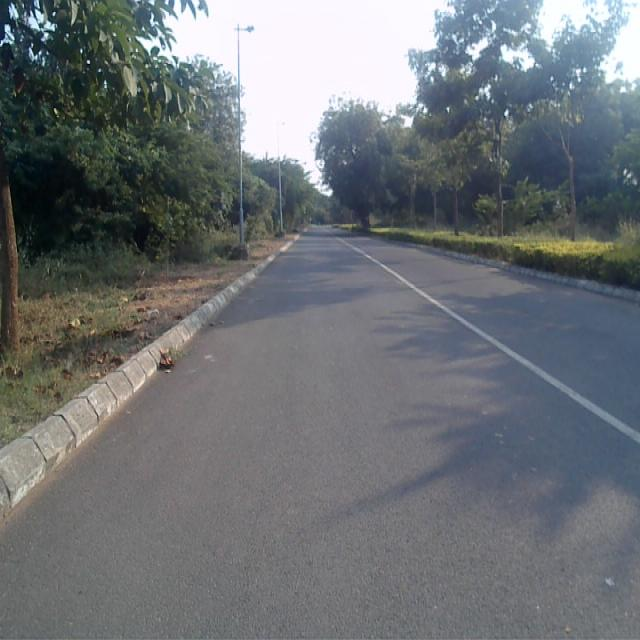lane: (0, 232, 640, 640)
